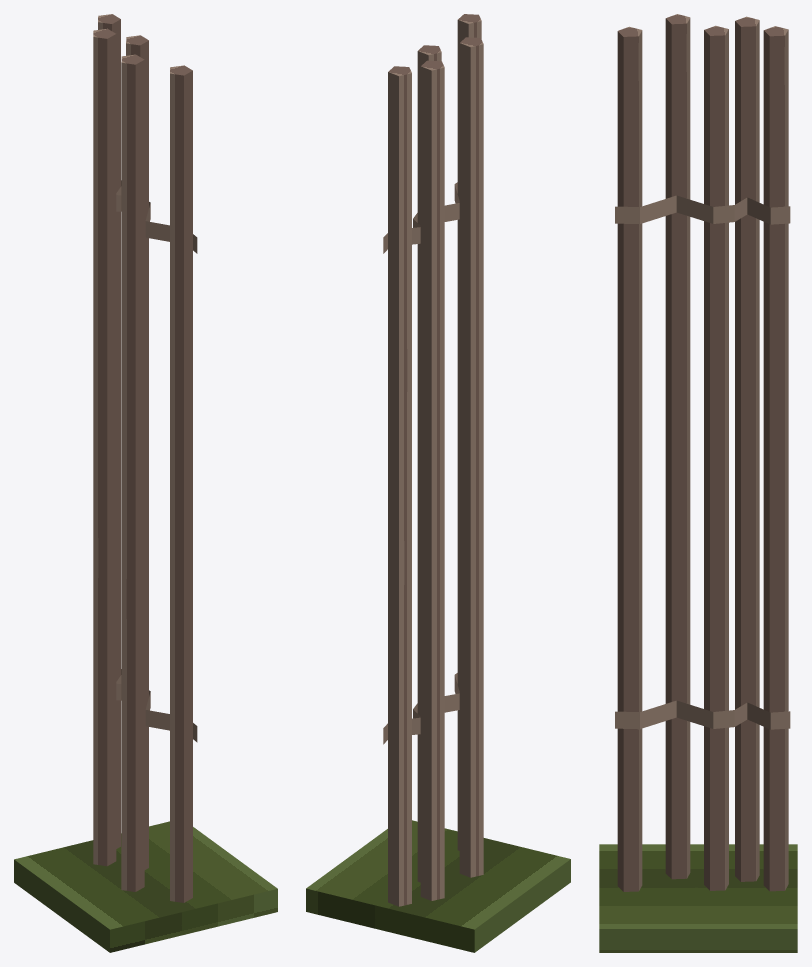
The model's file is wall_497x03.gltf.
3 views of the same model, side by side, from view 1: azimuth 30°, elevation 25°; view 2: azimuth 150°, elevation 25°; view 3: azimuth 270°, elevation 25° (orthographic). The views are drawn at different scales.
Visible parts, largest first — view 1: wall_497x03; view 2: wall_497x03; view 3: wall_497x03.
Boxes of the visible parts, <box> form: wall_497x03: <box>14,14,277,952</box>; wall_497x03: <box>306,14,570,952</box>; wall_497x03: <box>599,14,797,952</box>.
Size of the model in its own units: 1.01 by 4.89 by 1.
Materials: 1 (1 with a texture image).
